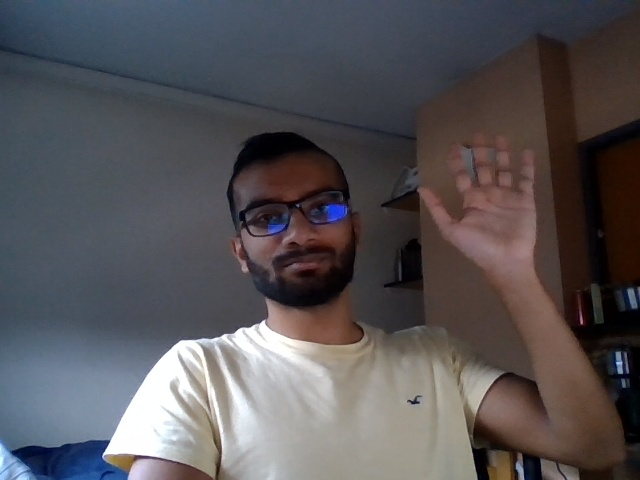Hello: (404, 118, 553, 268)
